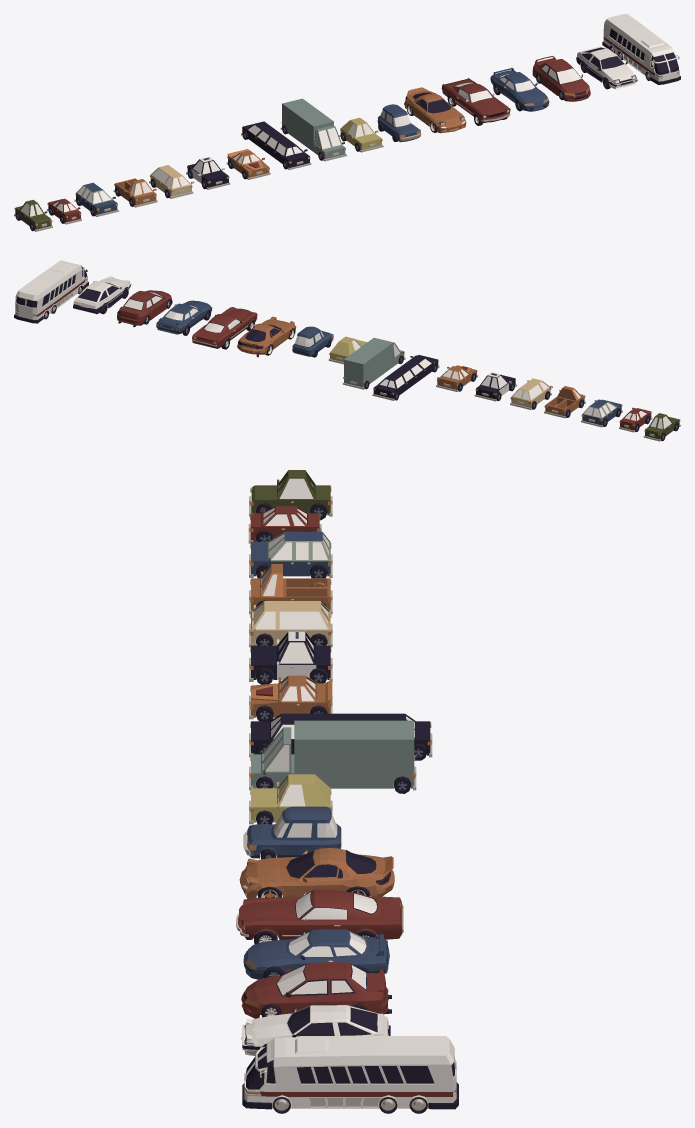
Rendered from 17 cars.fbx.
The picture shows the model from 3 angles, top to bottom: view 1: azimuth 30°, elevation 25°; view 2: azimuth 150°, elevation 25°; view 3: azimuth 270°, elevation 25°; orthographic projection. The views are drawn at different scales.
Visible parts, largest first — view 1: car 16, car 9, car 17, car 13, car 14, car 15, car 8, car 12, car 11, car 10, car 5, car 3 (+5 smaller); view 2: car 16, car 9, car 17, car 8, car 13, car 15, car 14, car 12, car 11, car 5, car 4, car 6 (+5 smaller); view 3: car 16, car 9, car 17, car 13, car 14, car 12, car 15, car 11, car 6, car 3, car 5, car 7 (+5 smaller).
Part boxes in pixels (x1=…): car 16: x1=602, y1=14, x2=680, y2=84; car 9: x1=280, y1=98, x2=346, y2=161; car 17: x1=441, y1=78, x2=510, y2=125; car 13: x1=404, y1=87, x2=466, y2=133; car 14: x1=532, y1=56, x2=590, y2=101; car 15: x1=576, y1=46, x2=637, y2=89; car 8: x1=241, y1=121, x2=311, y2=169; car 12: x1=490, y1=67, x2=549, y2=111; car 11: x1=377, y1=104, x2=421, y2=142; car 10: x1=339, y1=117, x2=383, y2=152; car 5: x1=149, y1=165, x2=194, y2=198; car 3: x1=74, y1=182, x2=118, y2=216; car 16: x1=14, y1=260, x2=88, y2=323; car 9: x1=342, y1=337, x2=405, y2=389; car 17: x1=192, y1=307, x2=257, y2=349; car 8: x1=372, y1=355, x2=439, y2=400; car 13: x1=237, y1=316, x2=296, y2=357; car 15: x1=73, y1=276, x2=131, y2=314; car 14: x1=117, y1=290, x2=172, y2=326; car 12: x1=156, y1=300, x2=212, y2=335; car 11: x1=292, y1=326, x2=333, y2=357; car 5: x1=510, y1=378, x2=552, y2=409; car 4: x1=544, y1=386, x2=585, y2=418; car 6: x1=474, y1=372, x2=516, y2=401; car 16: x1=242, y1=1036, x2=458, y2=1113; car 9: x1=249, y1=720, x2=416, y2=793; car 17: x1=236, y1=889, x2=403, y2=944; car 13: x1=239, y1=848, x2=394, y2=898; car 14: x1=241, y1=962, x2=391, y2=1018; car 12: x1=243, y1=929, x2=389, y2=979; car 15: x1=241, y1=1005, x2=390, y2=1055; car 11: x1=243, y1=806, x2=341, y2=859; car 6: x1=249, y1=631, x2=332, y2=684; car 3: x1=249, y1=531, x2=332, y2=578; car 5: x1=249, y1=601, x2=332, y2=647; car 7: x1=249, y1=675, x2=332, y2=721.
Bounding box in the file's own units: 5805 × 278 × 907.
1 material, 1 textured.
